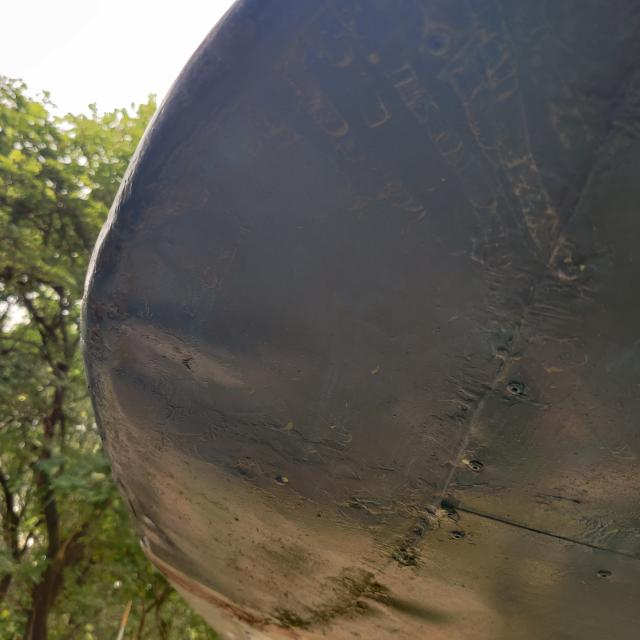dent: (86, 275, 276, 482), (354, 542, 495, 640)
